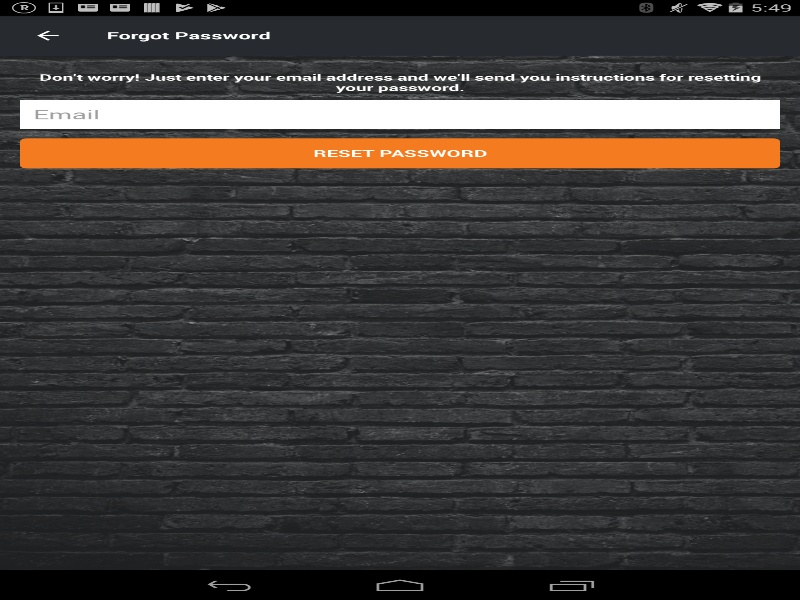Button: (20, 138, 780, 168), (10, 15, 85, 55)
Input: (20, 99, 780, 129)
